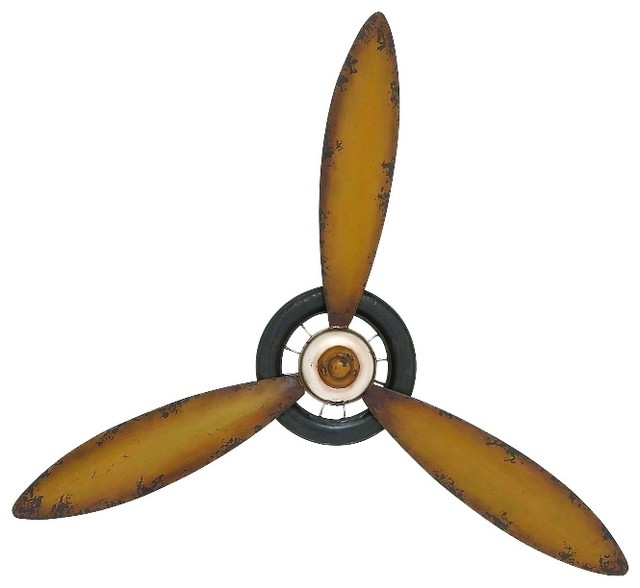Propeller: (66, 49, 640, 578)
